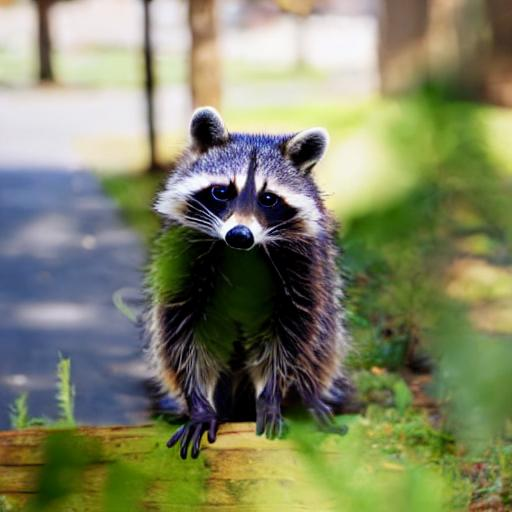raccoon: (142, 104, 354, 407)
